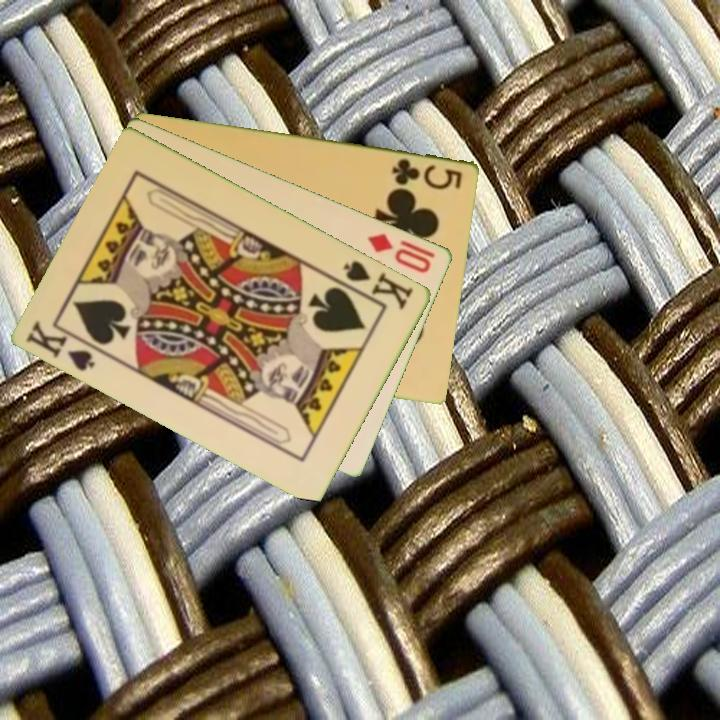10d: (364, 229, 435, 276)
5c: (389, 154, 466, 192)
Ks: (23, 317, 108, 374), (335, 256, 417, 312)
